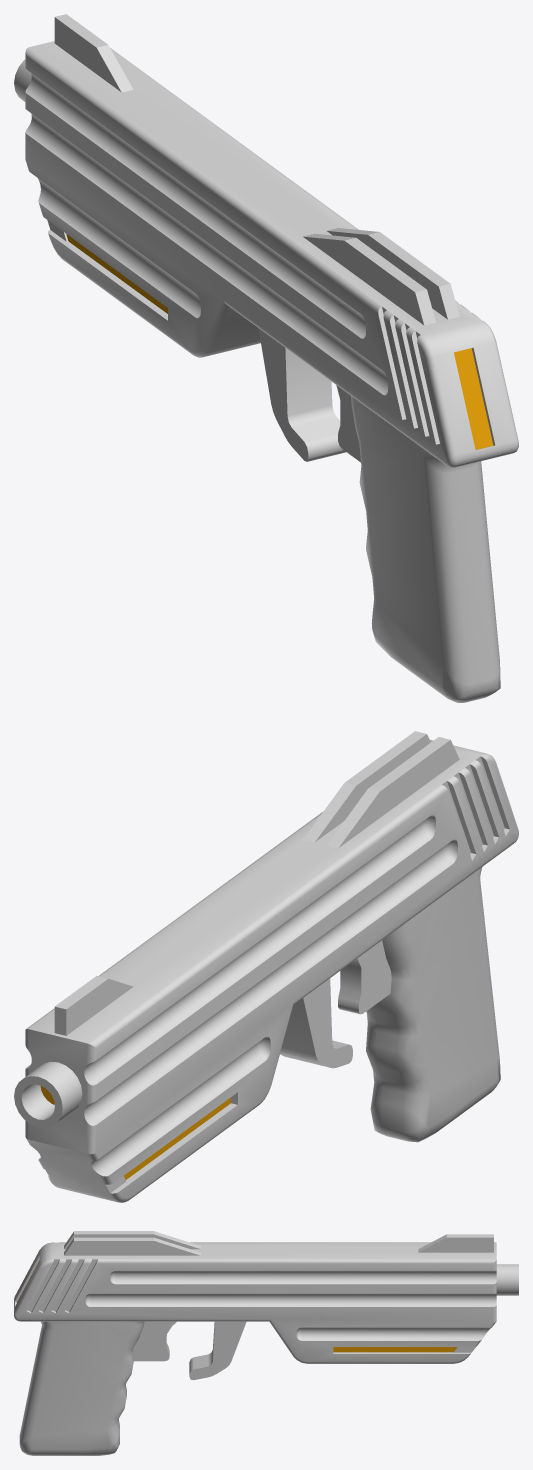
File: basicGun.glb
3 renders of one model, top to bottom at view 1: azimuth 30°, elevation 25°; view 2: azimuth 150°, elevation 25°; view 3: azimuth 270°, elevation 25°, orthographic. The views are drawn at different scales.
Parts seen in each view (by area): view 1: basicGun; view 2: basicGun; view 3: basicGun.
Part boxes in pixels (<box>): basicGun: <box>14,14,518,702</box>; basicGun: <box>14,731,518,1202</box>; basicGun: <box>14,1231,518,1455</box>.
Bounding box in the file's own units: 0.0338 × 0.1771 × 0.3752.
